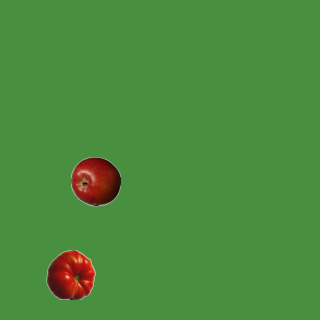Apple Braeburn: (70, 156, 120, 206)
Tomato 3: (45, 249, 95, 299)
